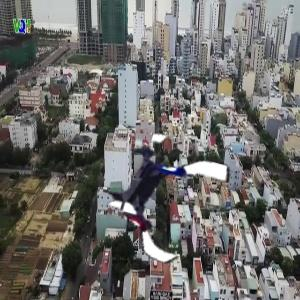drone: (98, 134, 230, 266)
